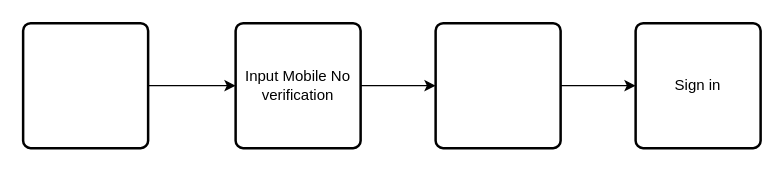
This 783x170 diagram has some shape labels left out. The shapes that lost their labels are listed below. From the top down, each one's centre as x and y in pixels, then its label:
At (85,85): "Input Mobile No".
At (497,85): "Input Email Address, First Name, Last Name".
